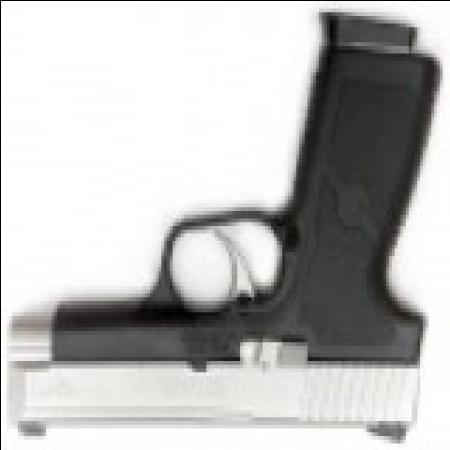Pistol: (6, 19, 438, 439)
